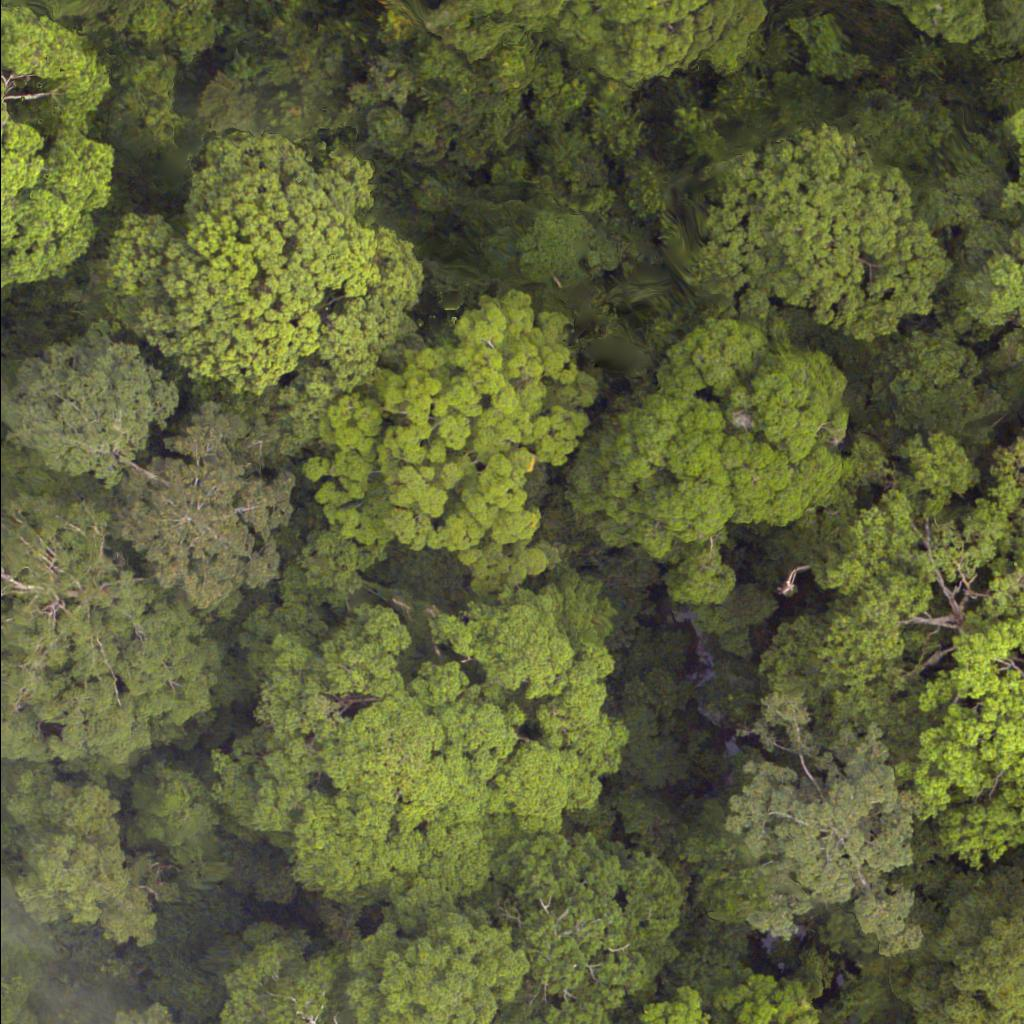crown: (212, 582, 626, 906), (68, 150, 443, 397), (307, 296, 602, 597), (567, 316, 862, 609), (770, 435, 1023, 719), (694, 124, 951, 346), (715, 694, 929, 955), (497, 831, 692, 1023), (0, 2, 119, 284), (872, 861, 1023, 1023), (340, 915, 538, 1023), (629, 964, 858, 1023), (205, 923, 317, 1023), (144, 1022, 149, 1023)
